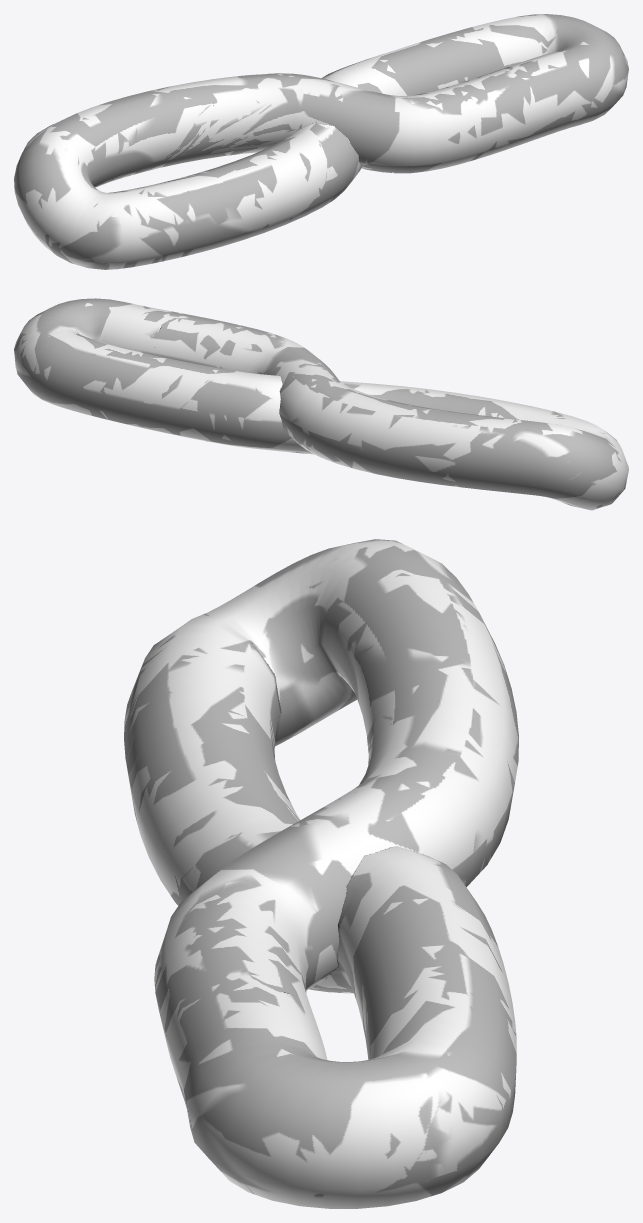
File: Pretzel.fbx
3 renders of one model, top to bottom at view 1: azimuth 30°, elevation 25°; view 2: azimuth 150°, elevation 25°; view 3: azimuth 270°, elevation 25°, orthographic. The views are drawn at different scales.
Visible parts, largest first — view 1: Pretzel; view 2: Pretzel; view 3: Pretzel.
Boxes of the visible parts, x1,y1,x2,y2 form: Pretzel: (14, 14, 628, 269); Pretzel: (14, 298, 628, 510); Pretzel: (124, 539, 518, 1208).
Bounding box in the file's own units: 414 × 70.99 × 121.
